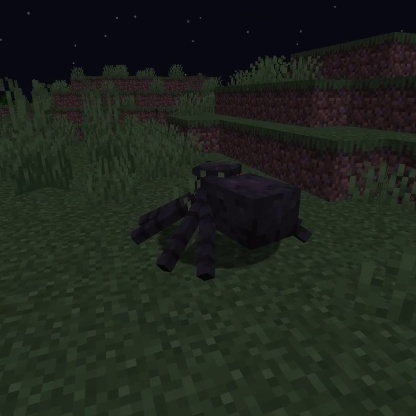spider: (128, 157, 315, 284)
